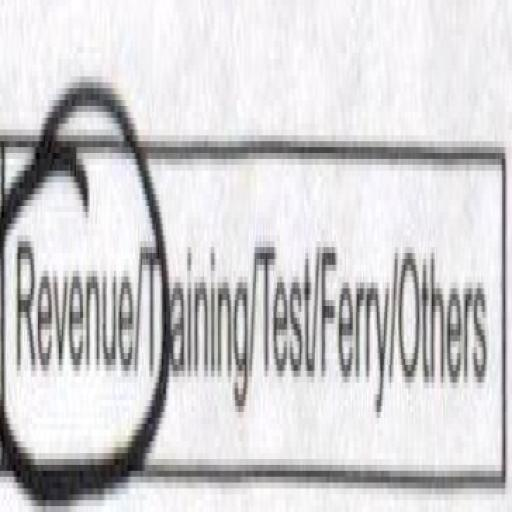check: (0, 12, 138, 506)
